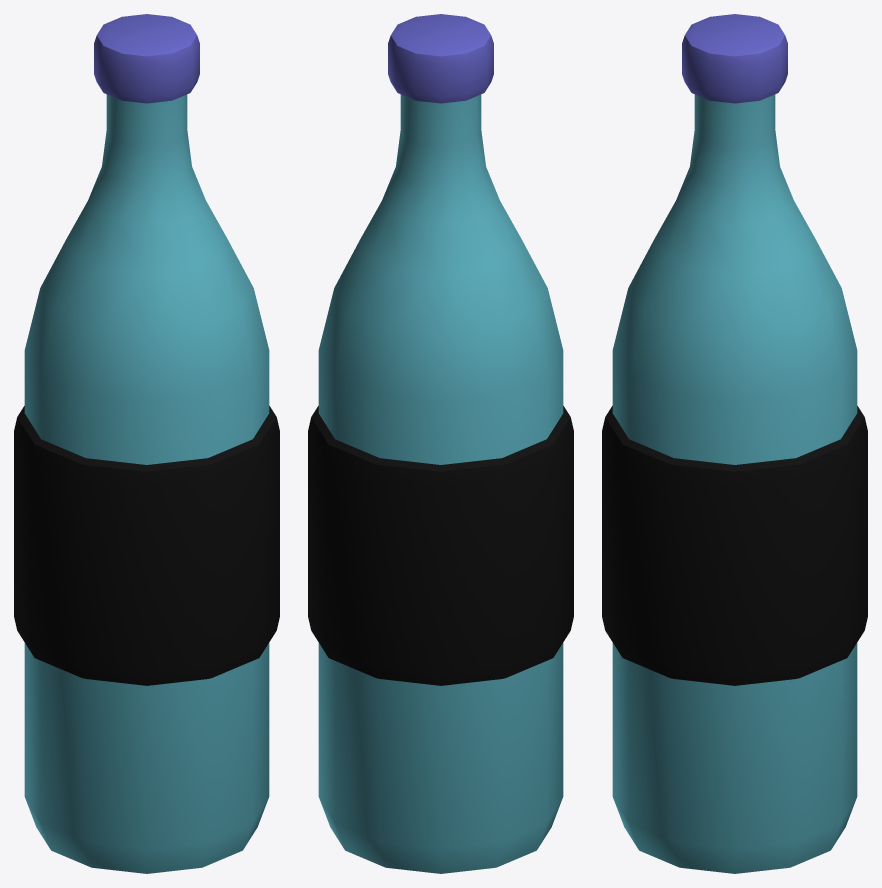
Rendered from SM_bottle_03.fbx.
The picture shows the model from 3 angles, left to right: view 1: azimuth 30°, elevation 25°; view 2: azimuth 150°, elevation 25°; view 3: azimuth 270°, elevation 25°; orthographic projection.
Visible parts, largest first — view 1: Cylinder049; view 2: Cylinder049; view 3: Cylinder049.
Boxes of the visible parts, bbox=[...] form: Cylinder049: bbox=[14, 14, 279, 873]; Cylinder049: bbox=[308, 14, 573, 873]; Cylinder049: bbox=[602, 14, 867, 873].
Size of the model in its own units: 8.41 by 28.09 by 8.41.
